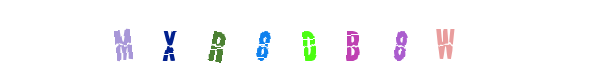8: (218, 0, 298, 80), (333, 0, 413, 80)
B: (269, 0, 349, 80)
D: (260, 0, 340, 80)
M: (129, 0, 209, 80)
R: (177, 0, 257, 80)
W: (386, 0, 466, 80)
X: (135, 0, 215, 80)
